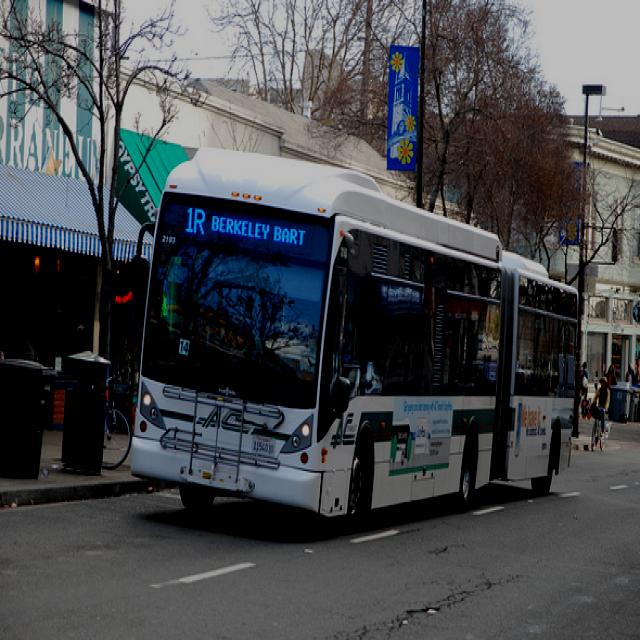Vehicle: (132, 148, 586, 520)
